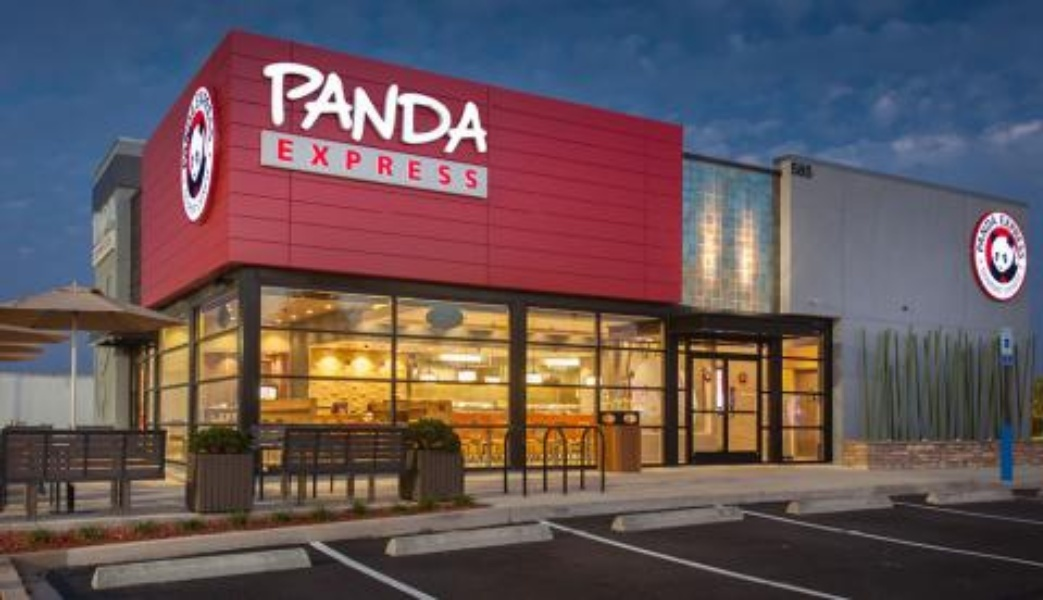text: (273, 55, 288, 161), (289, 55, 304, 161), (305, 55, 320, 161), (321, 55, 336, 161), (337, 55, 352, 161), (353, 55, 368, 161), (369, 55, 384, 161), (385, 55, 400, 161), (401, 55, 416, 161), (417, 55, 432, 161), (433, 55, 448, 161), (449, 55, 464, 161), (465, 55, 480, 161), (481, 55, 492, 161), (97, 192, 112, 268), (263, 55, 272, 161), (1009, 211, 1024, 264), (289, 135, 304, 187), (305, 135, 320, 187), (321, 135, 336, 187), (337, 135, 352, 187), (353, 135, 368, 187), (369, 135, 384, 187), (385, 135, 400, 187), (401, 135, 416, 187), (417, 135, 432, 187), (433, 135, 448, 187), (449, 135, 464, 187), (465, 135, 480, 187), (274, 135, 288, 187), (977, 211, 992, 257), (87, 192, 96, 268), (996, 211, 1008, 264), (113, 192, 120, 268), (1025, 211, 1035, 264), (967, 211, 976, 257), (993, 211, 1002, 257), (481, 135, 483, 187)
